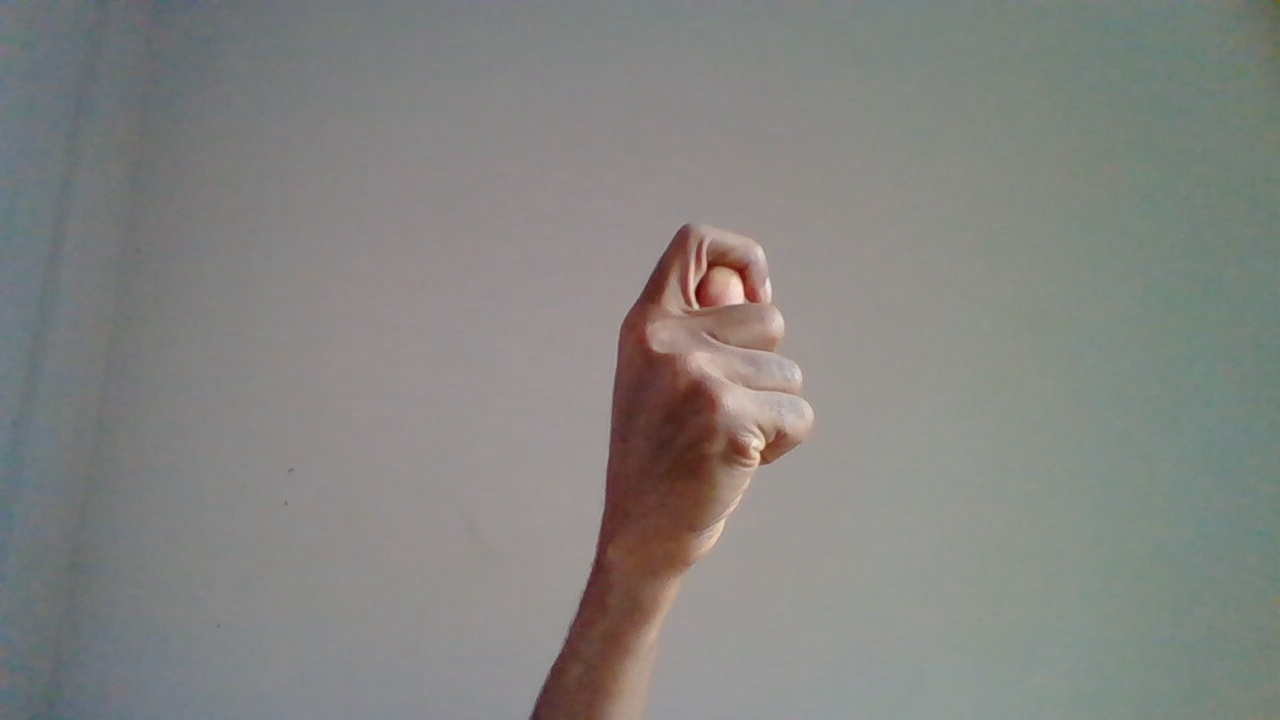che: (592, 217, 820, 653)
